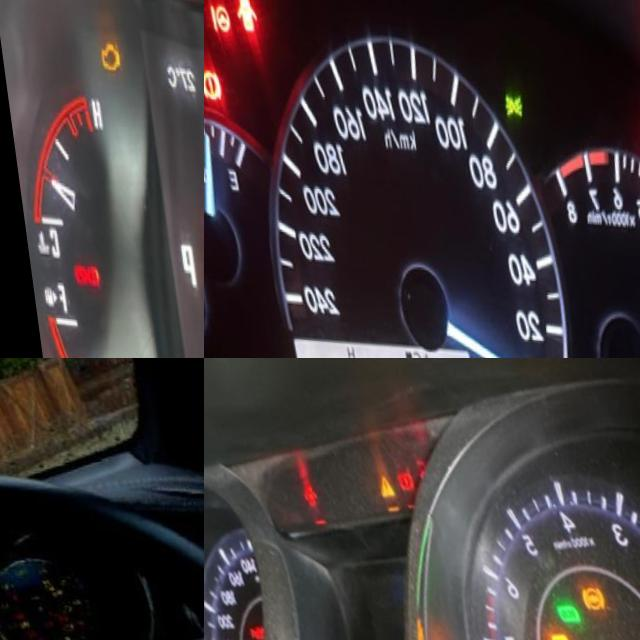Central Warning lamp: (369, 466, 394, 499)
Doors: (291, 472, 317, 509)
Electronic Power Steering: (204, 0, 231, 38)
Low fuel level: (57, 627, 67, 639)
